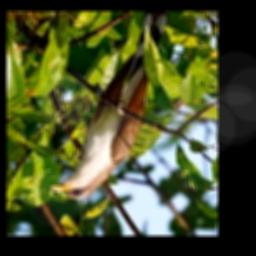Cuckoo: (50, 11, 170, 200)
